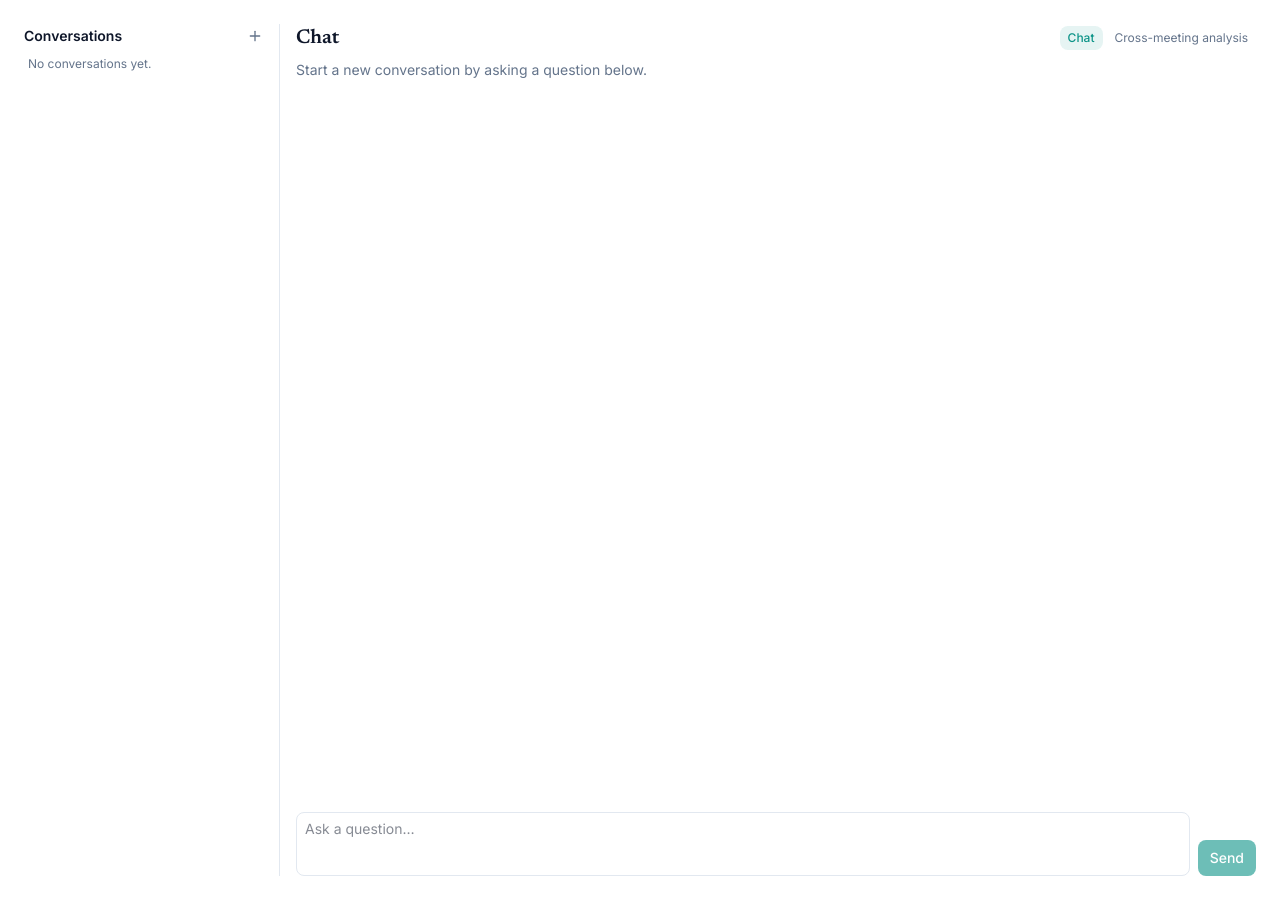
Test: ChatScreen › cross-meeting analysis › rolls back the optimistic user bubble and shows the chat error area on failure
Expected: the text "Start a new conversation by asking a question below." is shown, [296,61,647,78]
Click the tab "Cross-meeting analysis". click: (1181, 38)
box: [1106,26,1256,50]
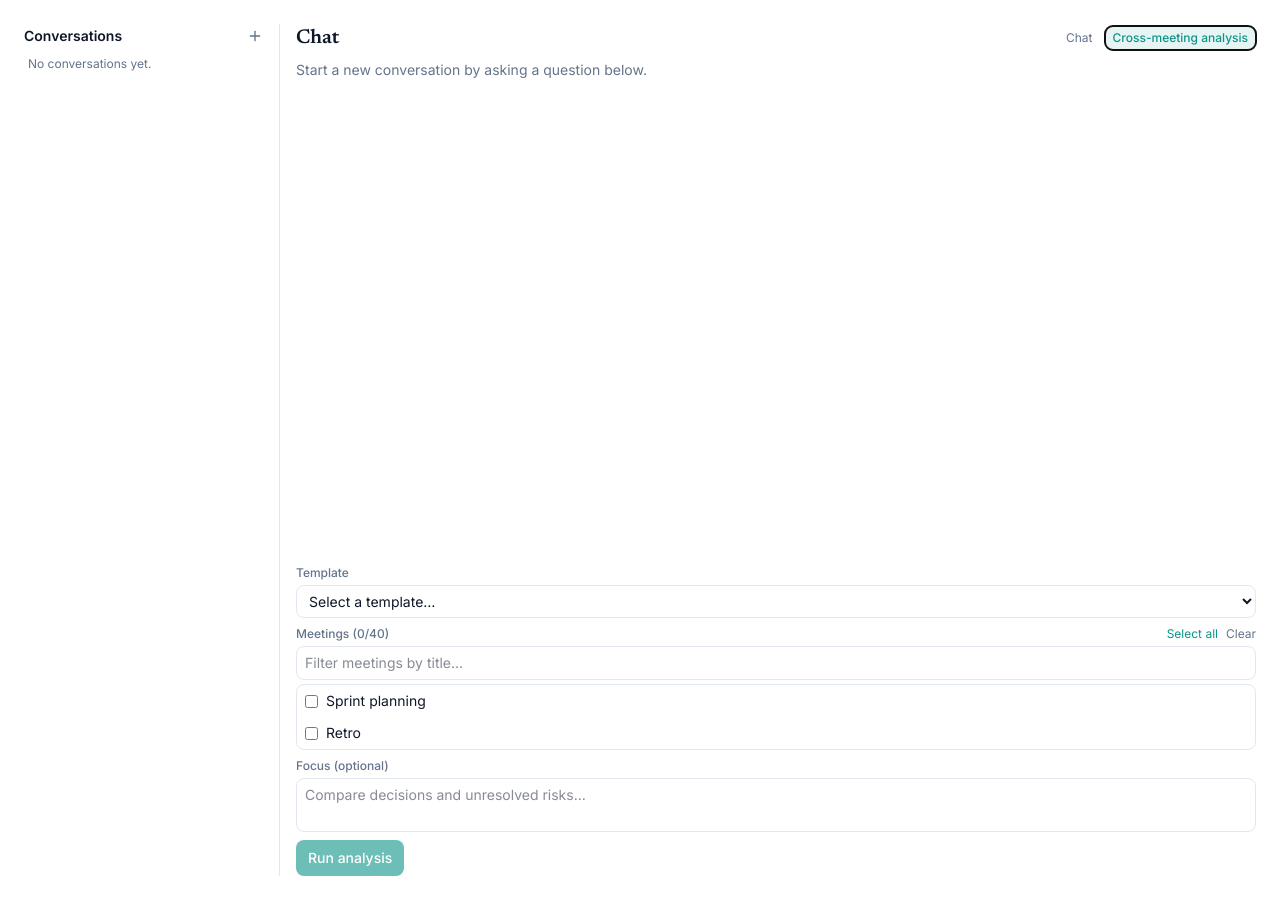
Expected: the dropdown named "Cross-analysis template" is shown, [296,585,1256,618]
Click the checkbox labelled "Sprint planning". click: (312, 701)
box: [305,694,318,708]
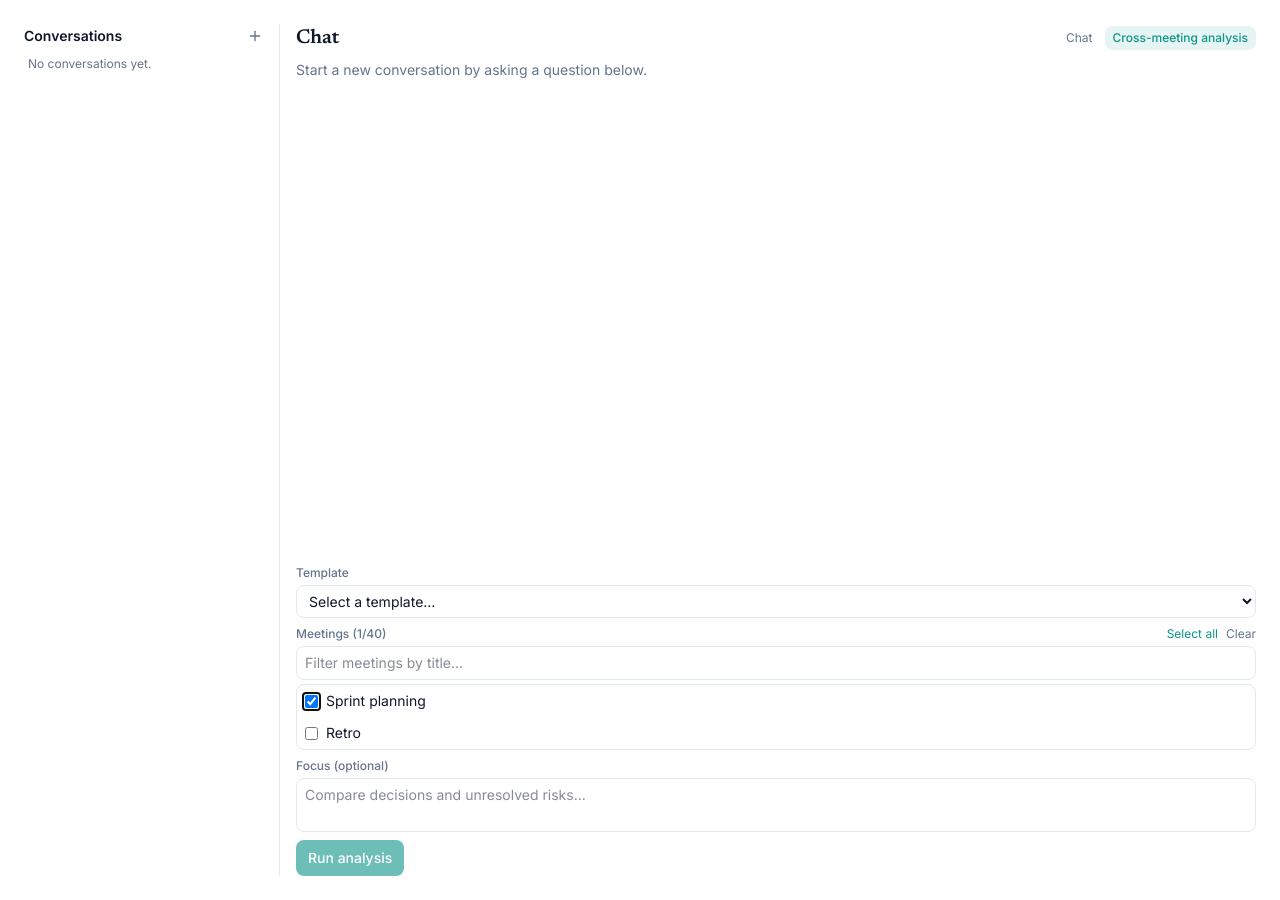
Click the checkbox labelled "Retro". click: (312, 733)
box: [305,726,318,740]
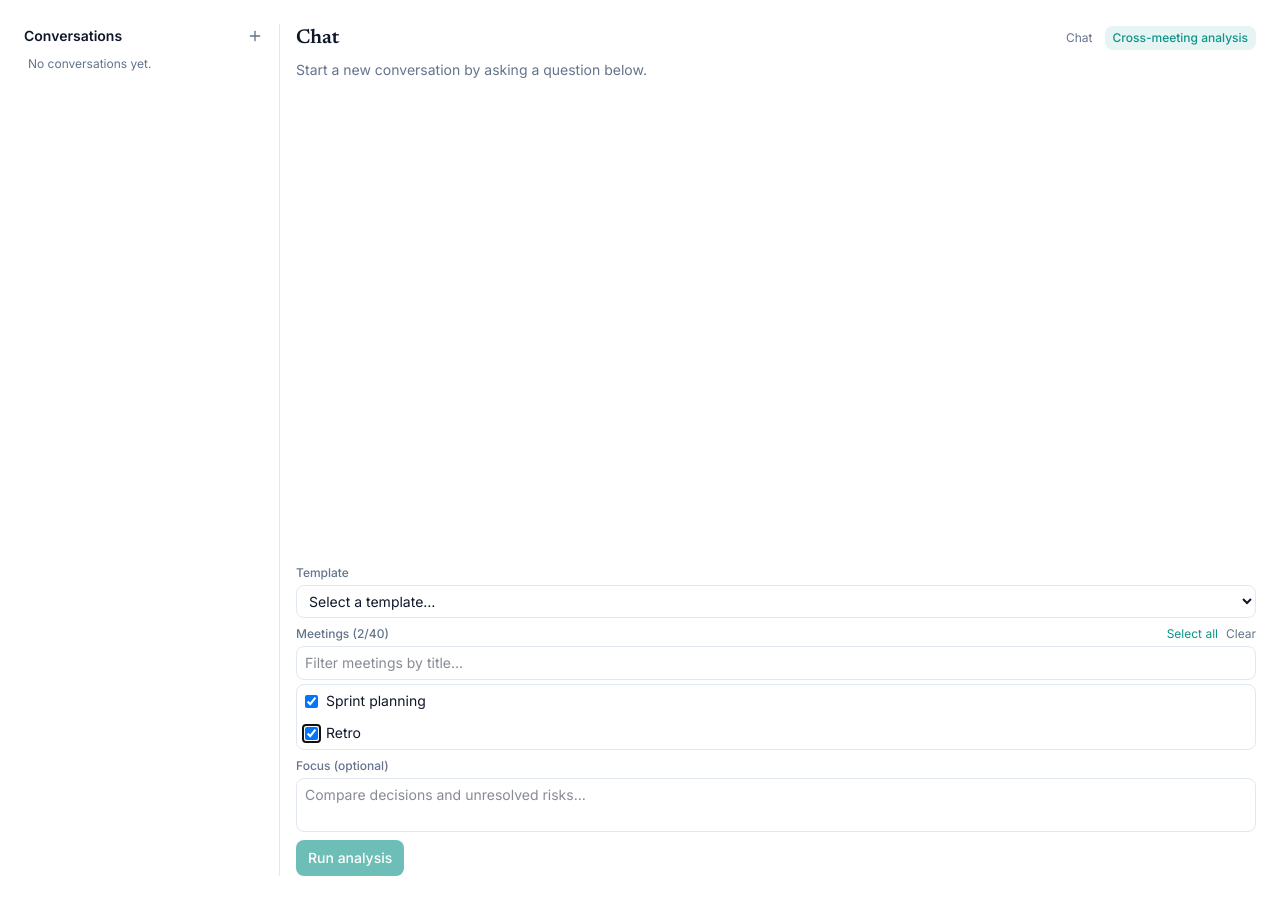
Select "Cross recap" in the dropdown named "Cross-analysis template". click: (776, 602)
box: [296,585,1256,618]
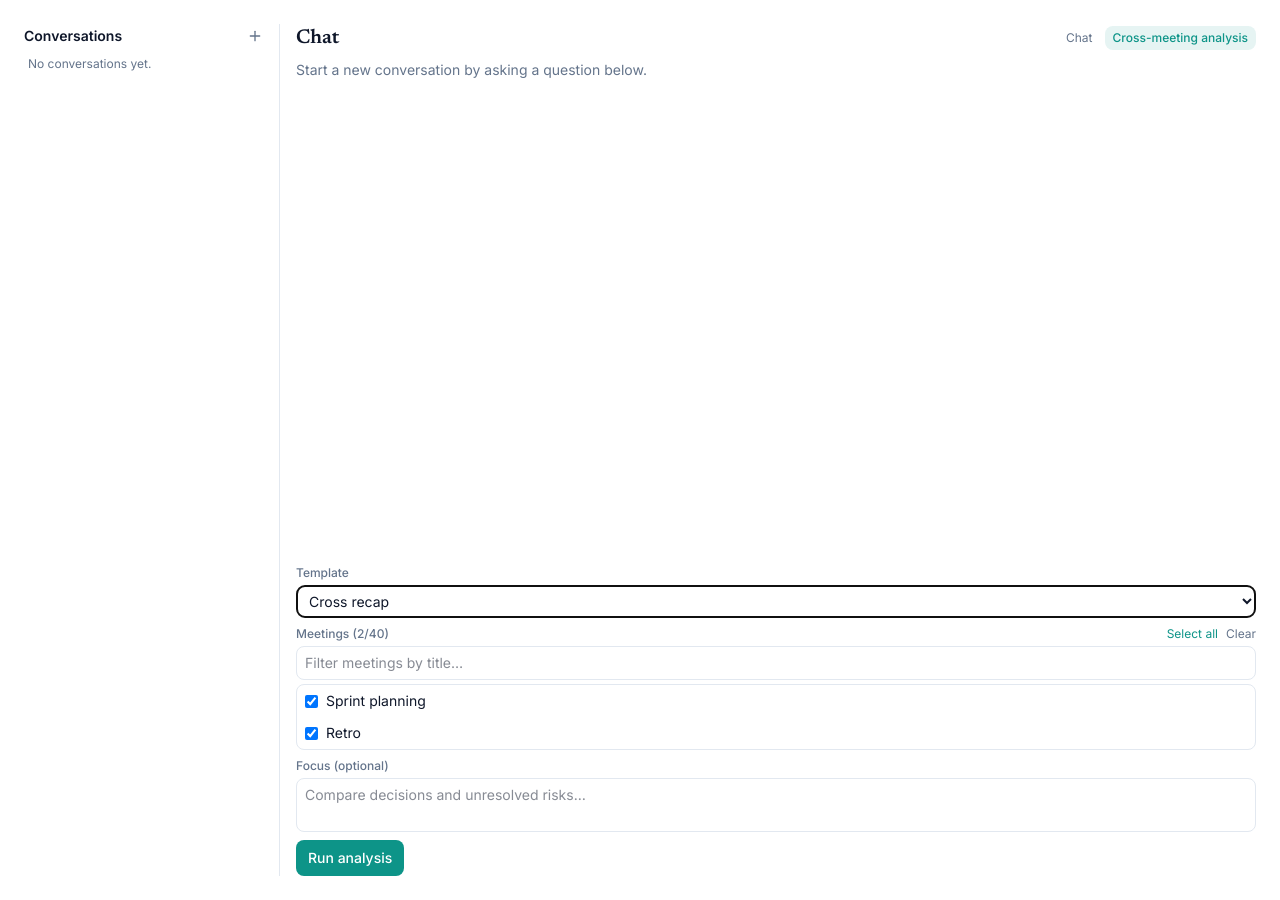
Click the button "Run analysis". click: (350, 858)
box: [296,840,404,876]
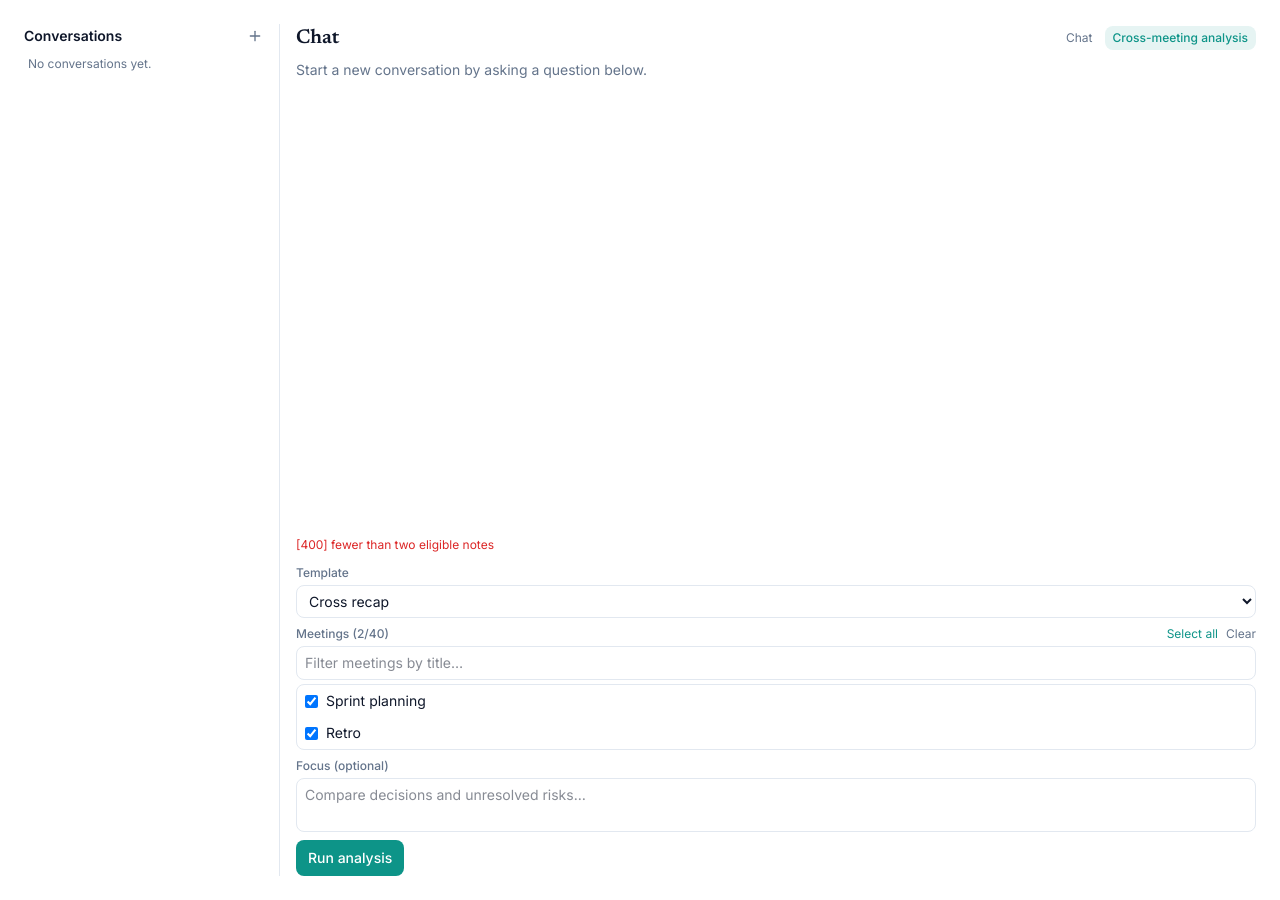
Expected: the message "[400] fewer than two eligible notes" is shown, [296,537,494,552]
